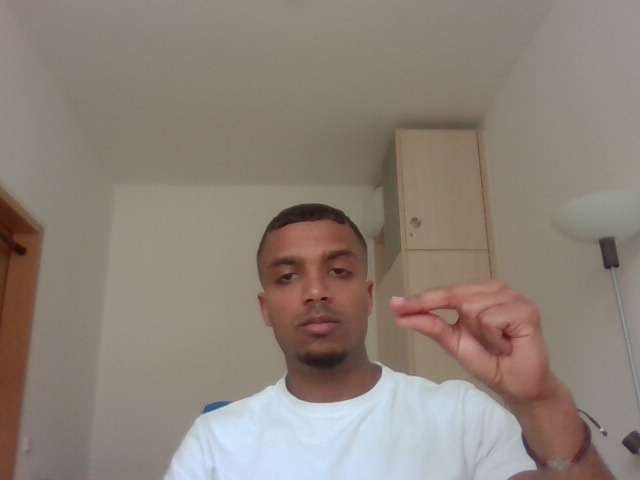no: (384, 268, 587, 408)
